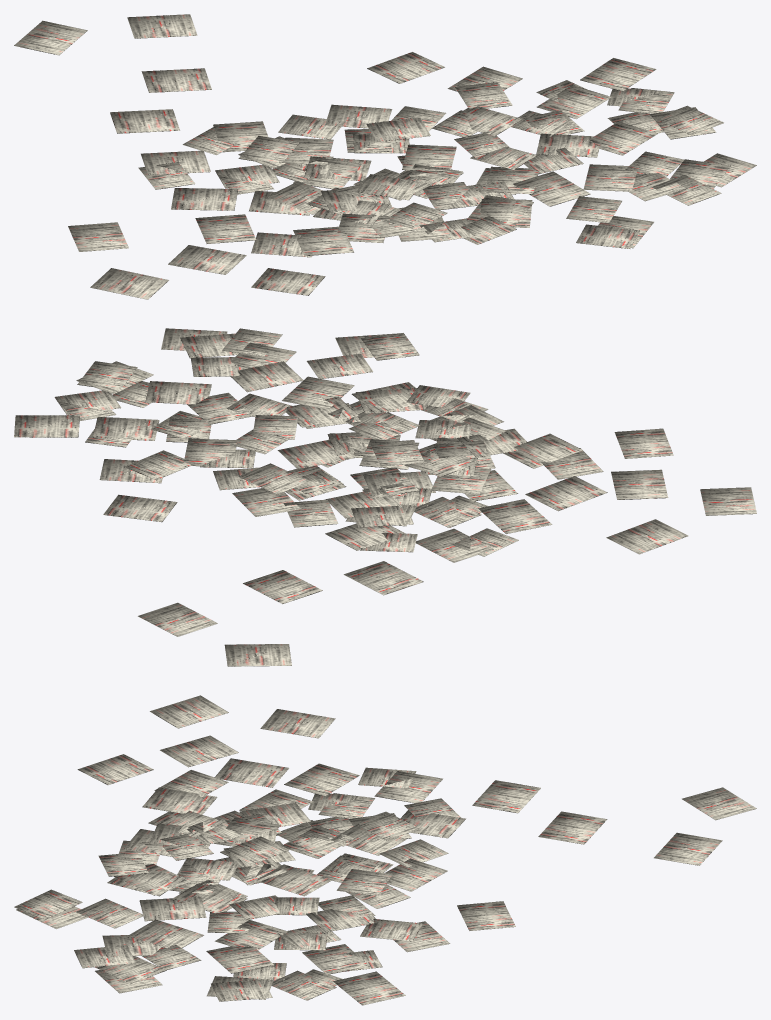
The model's file is MessyPapers 1.fbx.
3 views of the same model, one above another, from view 1: azimuth 30°, elevation 25°; view 2: azimuth 150°, elevation 25°; view 3: azimuth 270°, elevation 25° (orthographic). The views are drawn at different scales.
Visible parts, largest first — view 1: Messy Papers; view 2: Messy Papers; view 3: Messy Papers.
Boxes of the visible parts, x1,y1,x2,y2 form: Messy Papers: (14, 14, 756, 299); Messy Papers: (14, 328, 756, 666); Messy Papers: (14, 695, 756, 1005).
Size of the model in its own units: 17.45 by 0.0498 by 17.72.
1 material, 1 textured.
